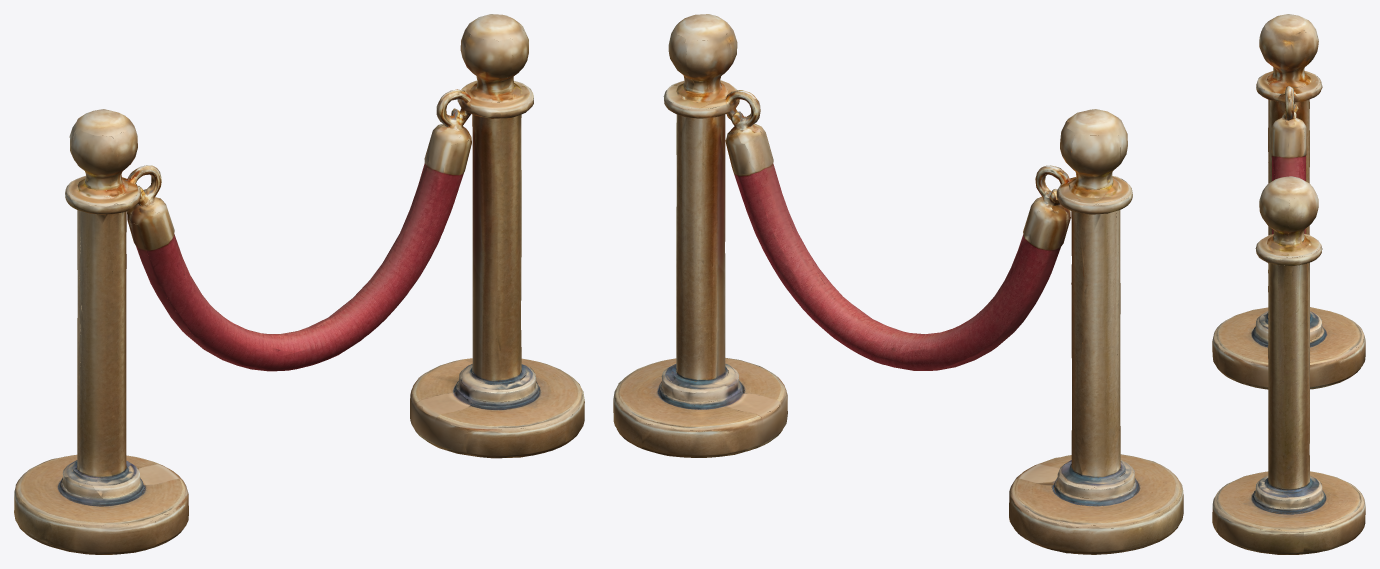
File: Stage_Stanchion.fbx
3 renders of one model, left to right at view 1: azimuth 30°, elevation 25°; view 2: azimuth 150°, elevation 25°; view 3: azimuth 270°, elevation 25°, orthographic. The views are drawn at different scales.
Parts seen in each view (by area): view 1: Prop_stanchion; view 2: Prop_stanchion; view 3: Prop_stanchion.
Boxes of the visible parts, <box> form: Prop_stanchion: <box>14,14,584,554</box>; Prop_stanchion: <box>613,14,1183,554</box>; Prop_stanchion: <box>1212,14,1365,554</box>.
Size of the model in its own units: 1.4 by 0.9907 by 0.3999.
1 material, 1 textured.
